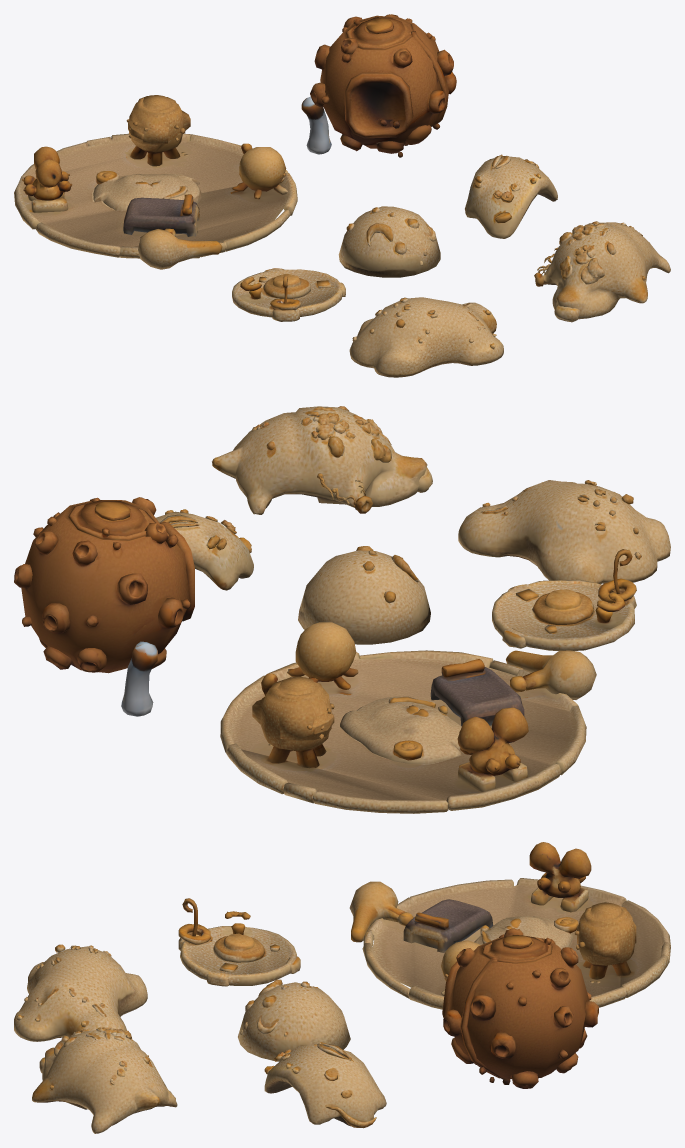
File: Mapa3.glb
The picture shows the model from 3 angles, top to bottom: view 1: azimuth 30°, elevation 25°; view 2: azimuth 150°, elevation 25°; view 3: azimuth 270°, elevation 25°; orthographic projection. The views are drawn at different scales.
Parts seen in each view (by area): view 1: tripo_node_f8accbc0-03f8-4a17-8fa1-1f2ec7317c51; view 2: tripo_node_f8accbc0-03f8-4a17-8fa1-1f2ec7317c51; view 3: tripo_node_f8accbc0-03f8-4a17-8fa1-1f2ec7317c51.
Part boxes in pixels (<box>): tripo_node_f8accbc0-03f8-4a17-8fa1-1f2ec7317c51: <box>14,14,670,377</box>; tripo_node_f8accbc0-03f8-4a17-8fa1-1f2ec7317c51: <box>14,406,670,813</box>; tripo_node_f8accbc0-03f8-4a17-8fa1-1f2ec7317c51: <box>14,842,670,1133</box>.
Bounding box in the file's own units: 0.8574 × 0.2598 × 0.998.
Materials: 1 (1 with a texture image).
